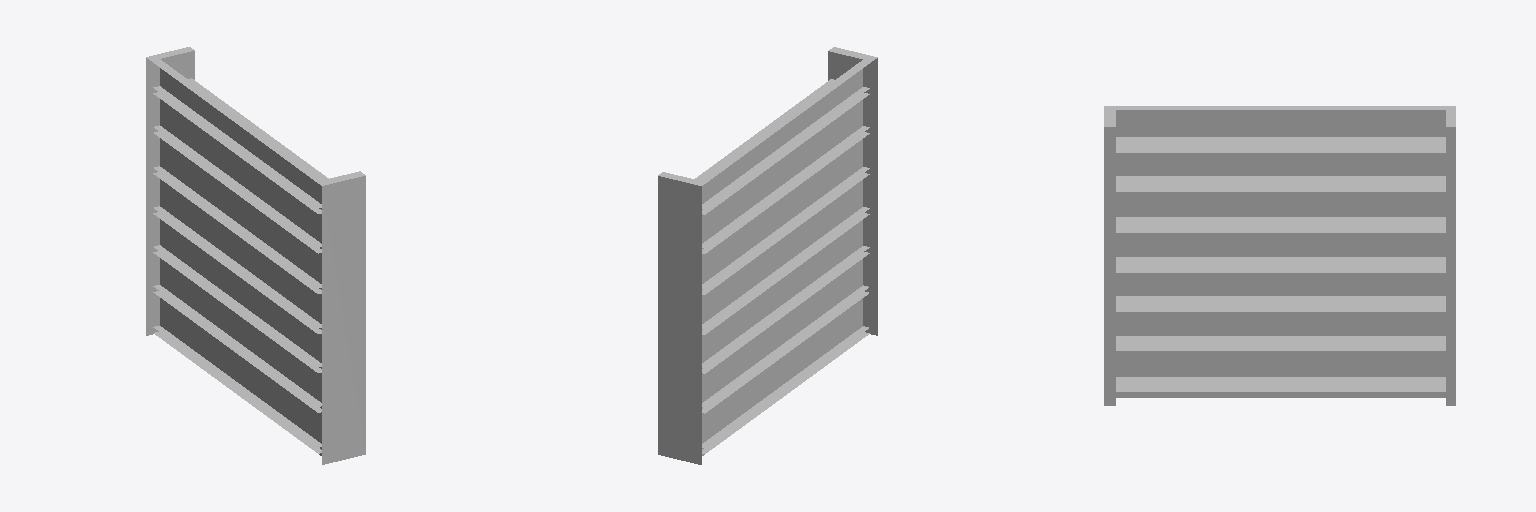
Rendered from bookcase.obj.
3 renders of one model, left to right at view 1: azimuth 30°, elevation 25°; view 2: azimuth 150°, elevation 25°; view 3: azimuth 270°, elevation 25°, orthographic.
Visible parts, largest first — view 1: Cube; view 2: Cube; view 3: Cube.
Part boxes in pixels (x1,y1,x2,y2): Cube: (146, 47, 365, 464); Cube: (658, 47, 877, 464); Cube: (1104, 106, 1455, 405).
Bounding box in the file's own units: 1.15 × 6.98 × 8.